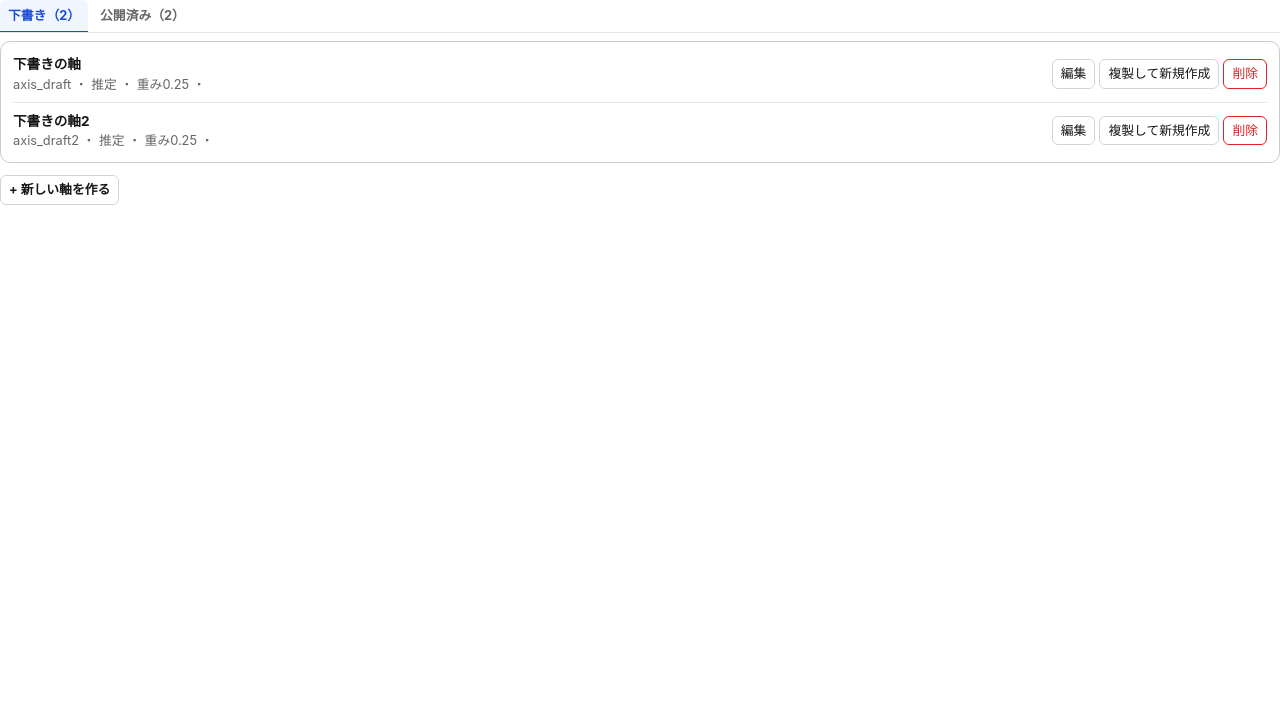
削除 › 2つの軸を続けて消すと、先の軸が消えたあとも、まだ消している軸の削除は押せない
Check: the tab "公開済み（2）" is shown, box [92,0,193,33]
Click the 1st button "削除". click: (1245, 74)
box: [1223,59,1267,89]
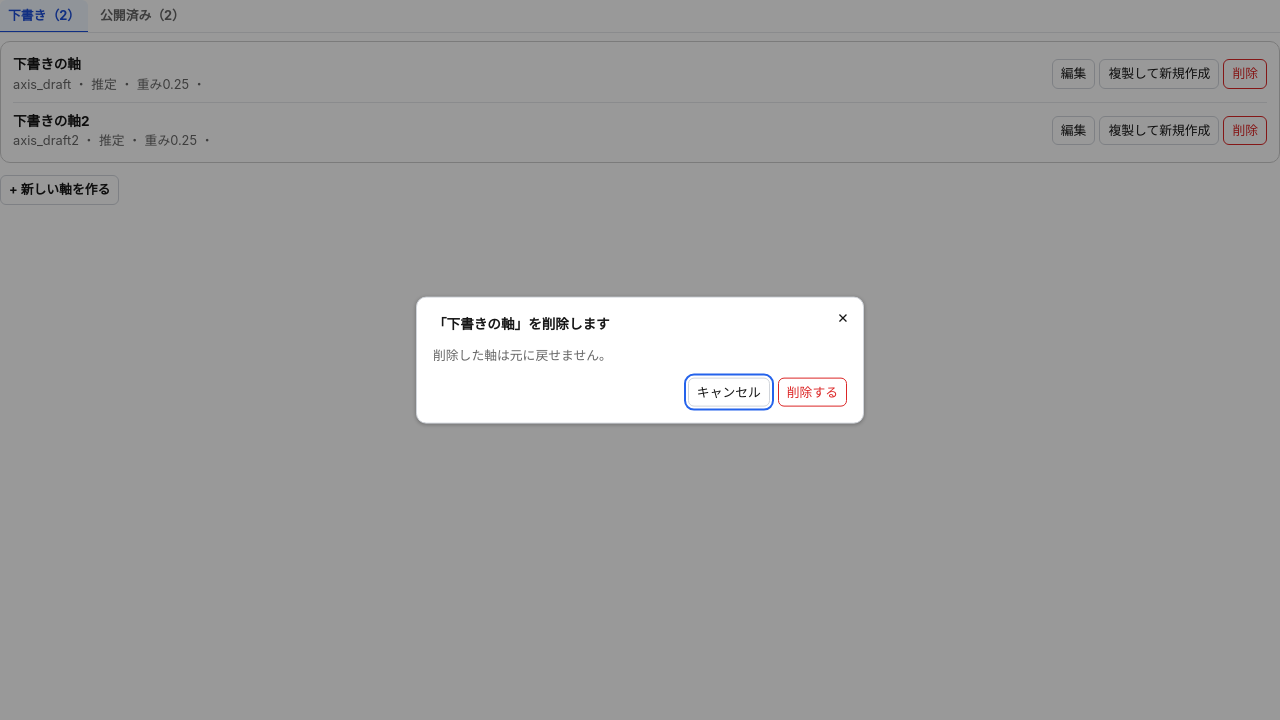
Click the button "削除する". click: (812, 392)
box: [778,377,847,406]
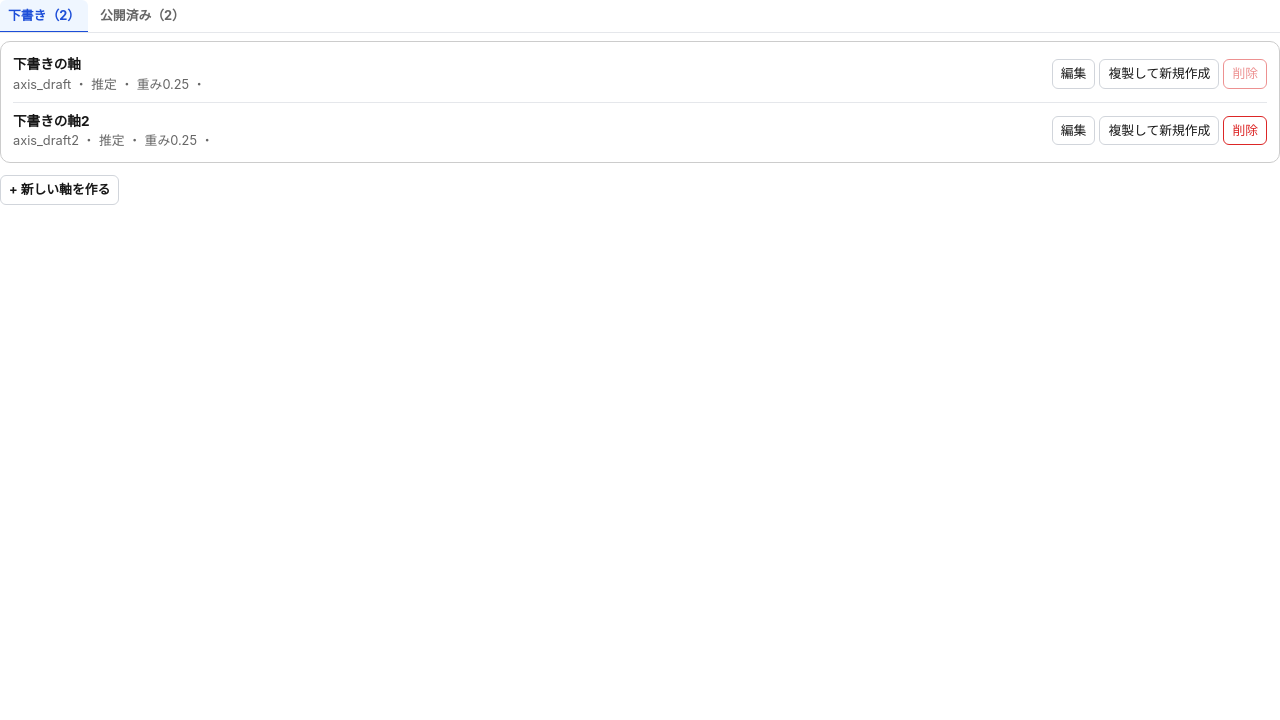
Click the button "削除" in the row of "下書きの軸2". click: (1245, 131)
box: [1223,116,1267,145]
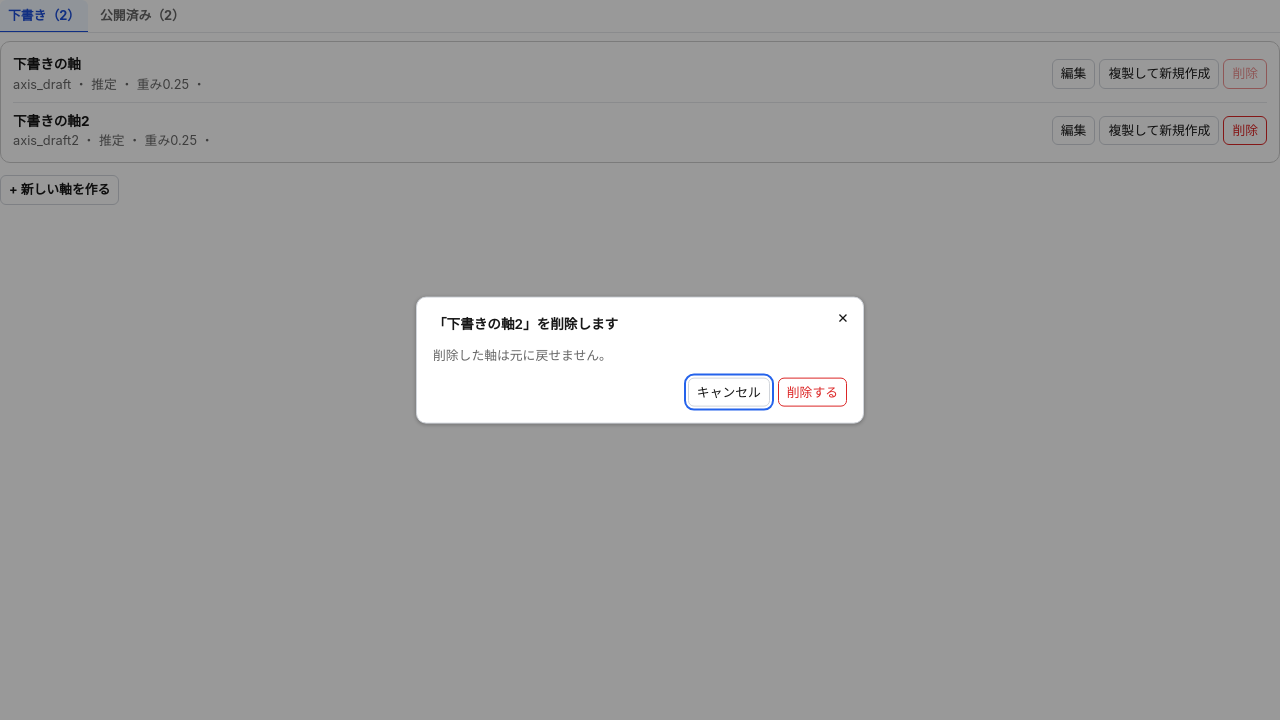
Click the button "削除する". click: (812, 392)
box: [778,377,847,406]
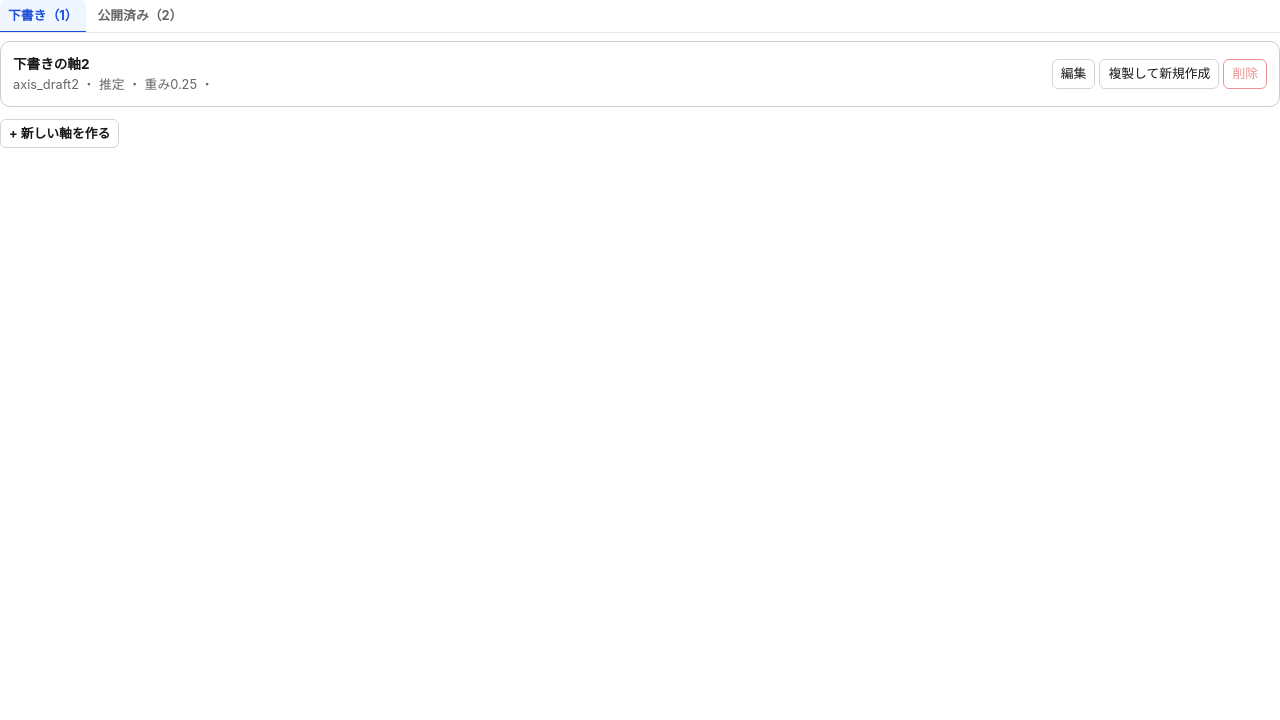
Check: the button "削除" is disabled, box [1223,59,1267,89]
